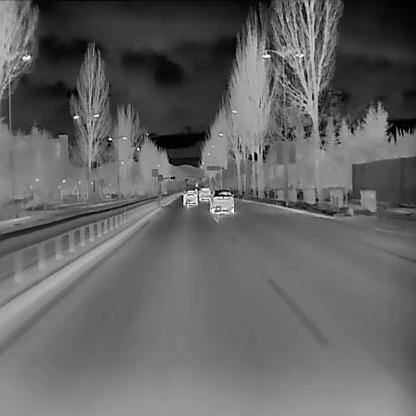car: (207, 188, 234, 213), (182, 187, 198, 205), (198, 186, 211, 200)
